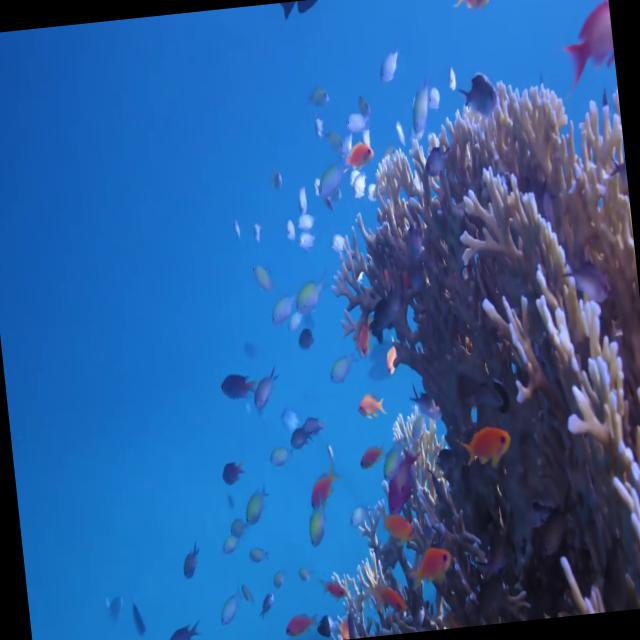fish: (455, 419, 513, 468), (410, 546, 452, 591)
